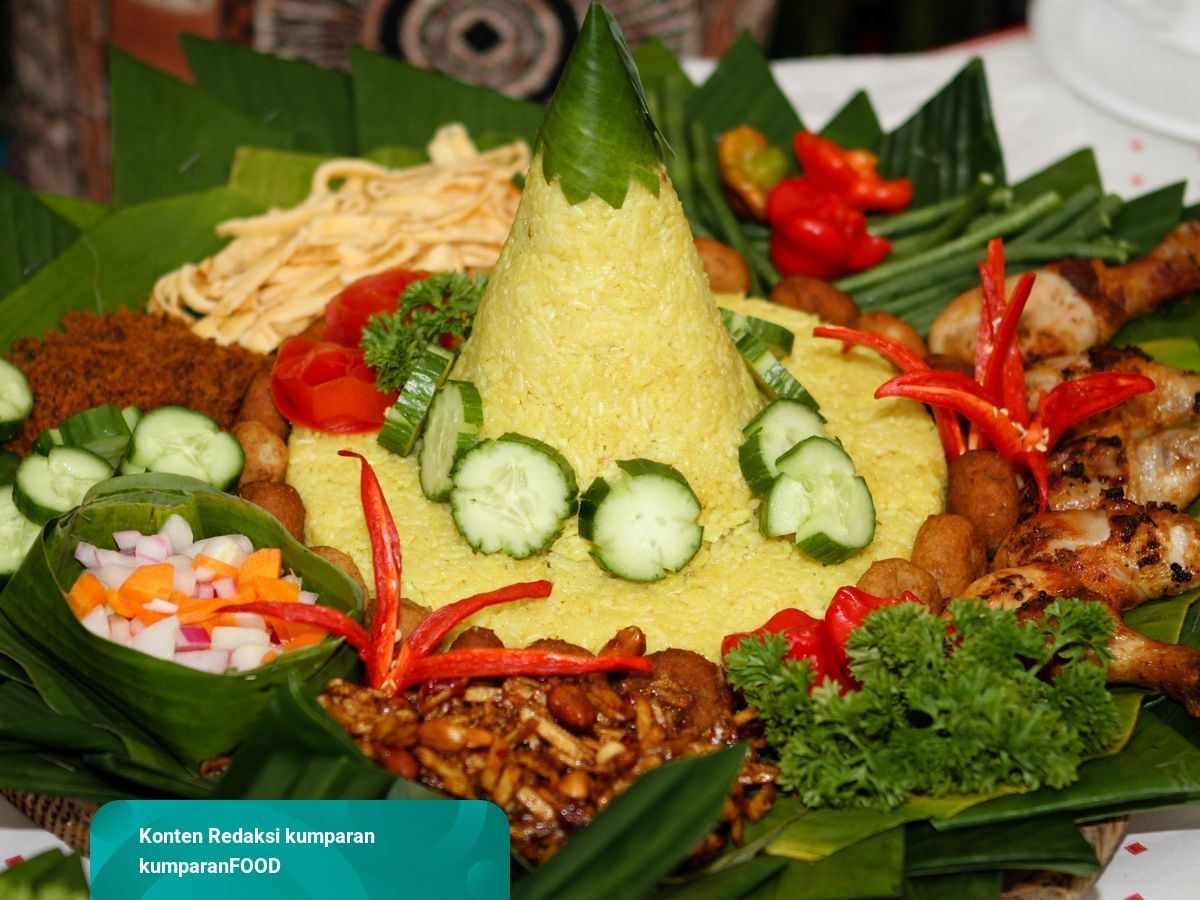tumpeng: (406, 2, 830, 468)
